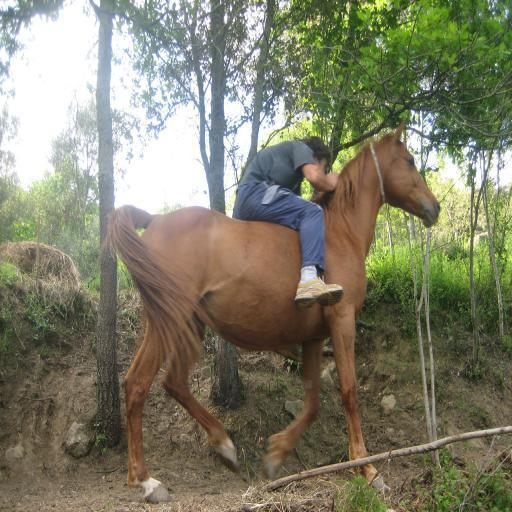horse: (98, 113, 442, 505)
